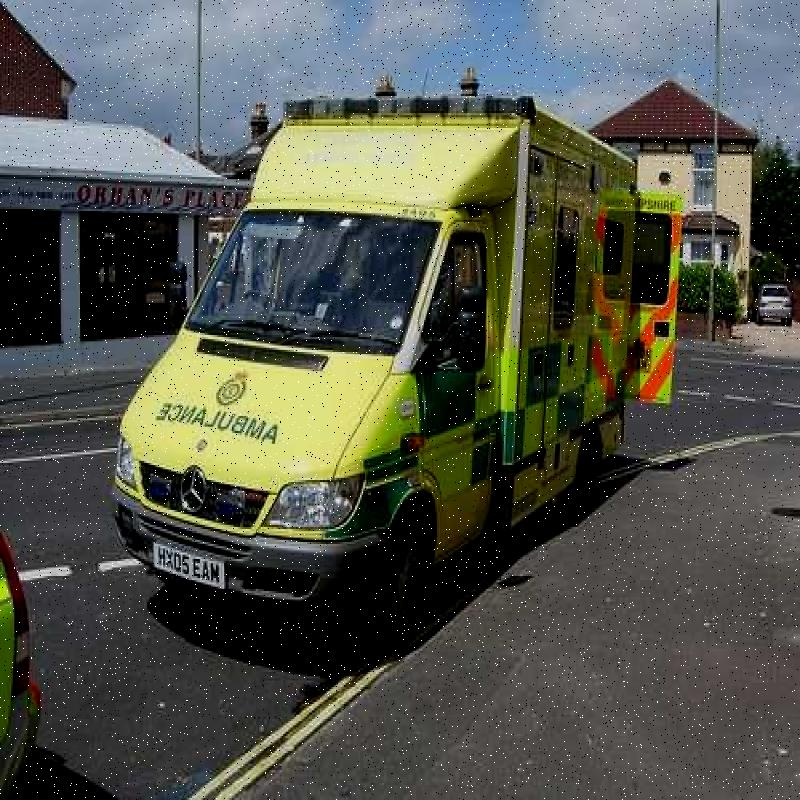AmbulanceSiren: (284, 75, 546, 143)
